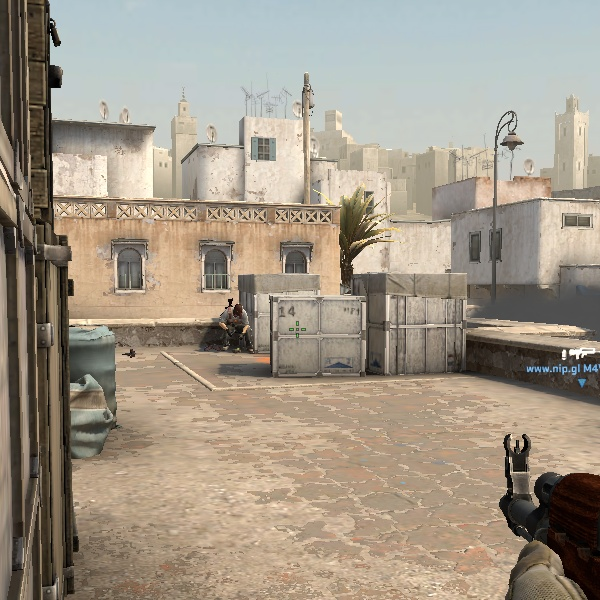t_body: (220, 300, 250, 353)
t_head: (233, 303, 242, 318)
